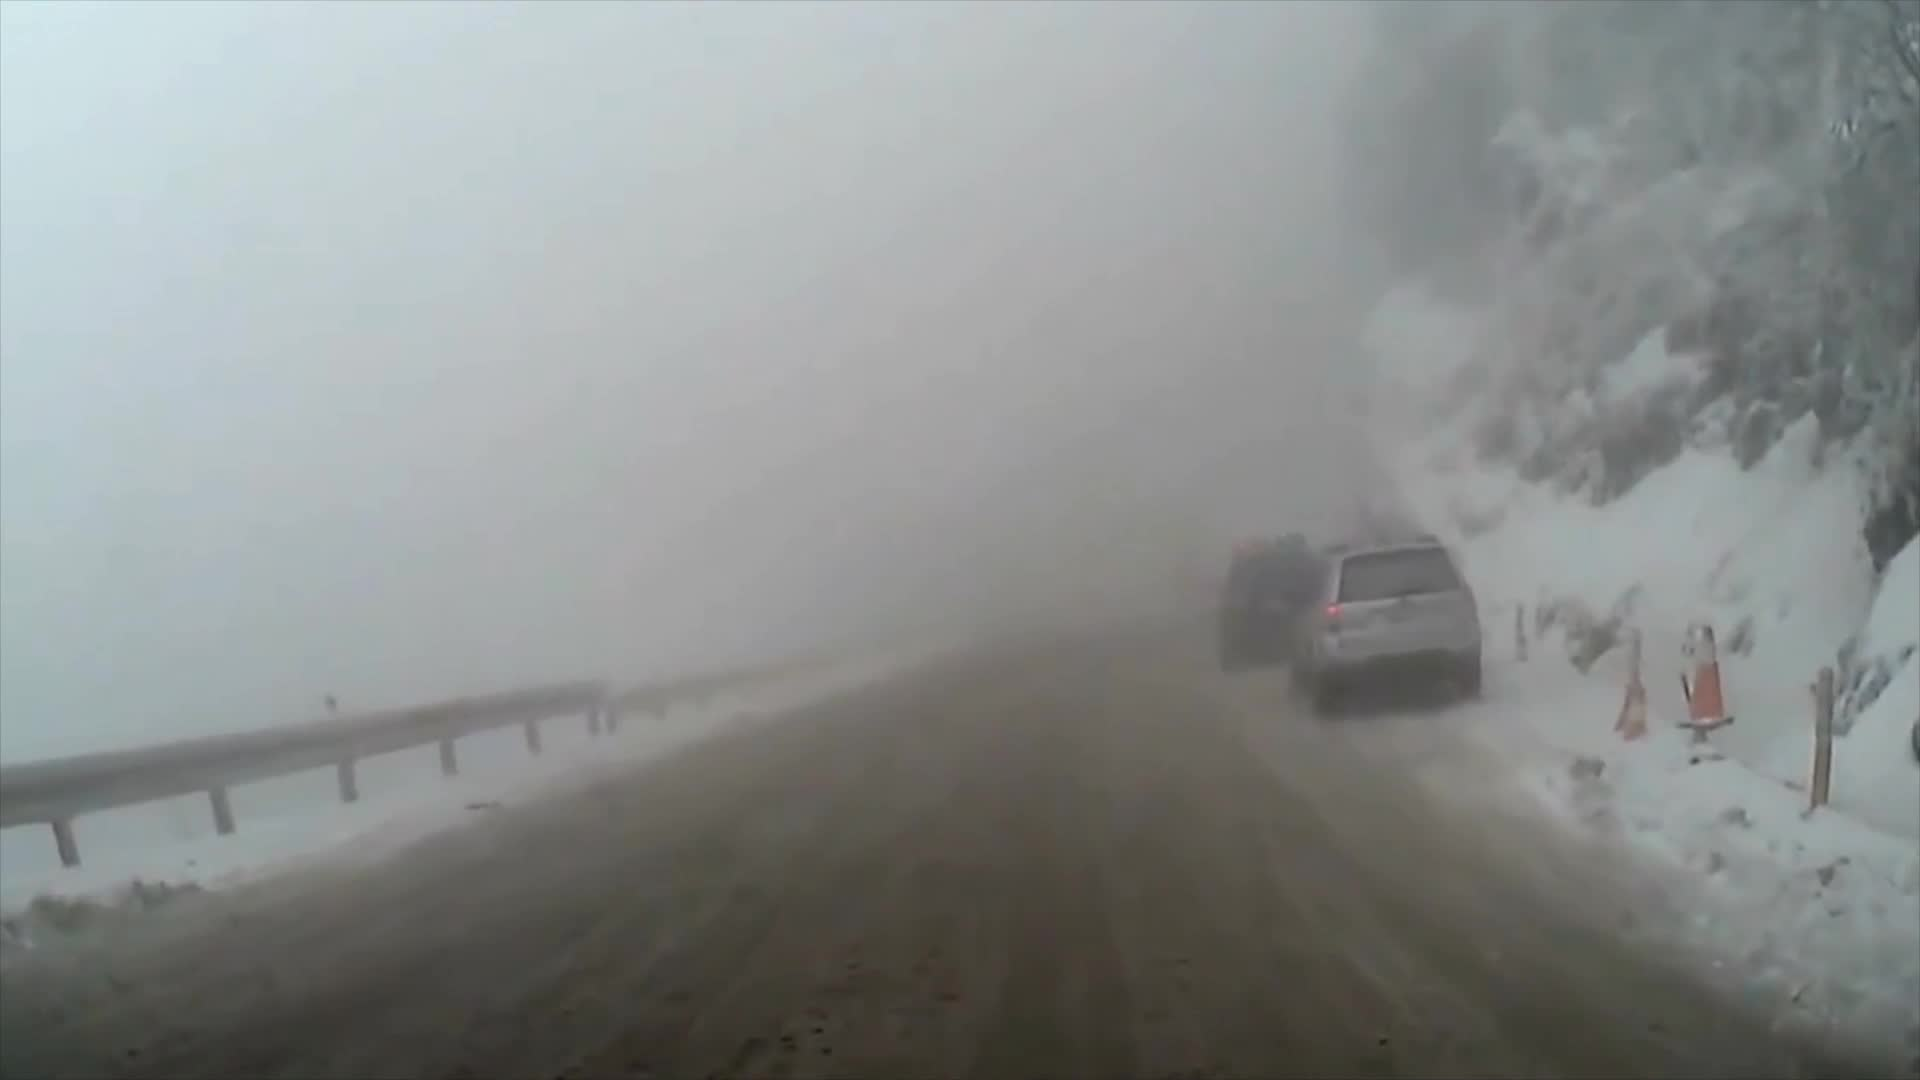vehicle: (1286, 530, 1484, 720), (1207, 525, 1338, 669)
